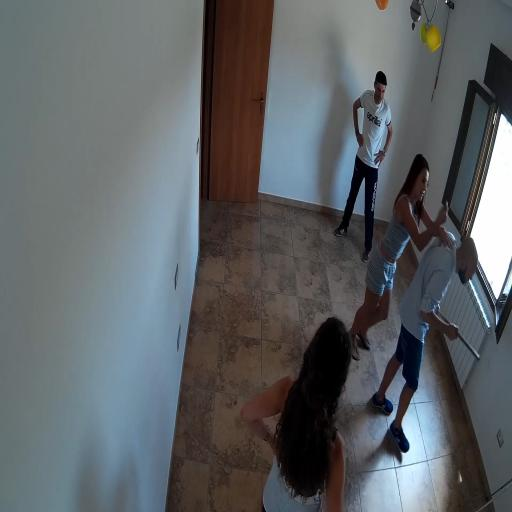violencia: (339, 145, 493, 476)
